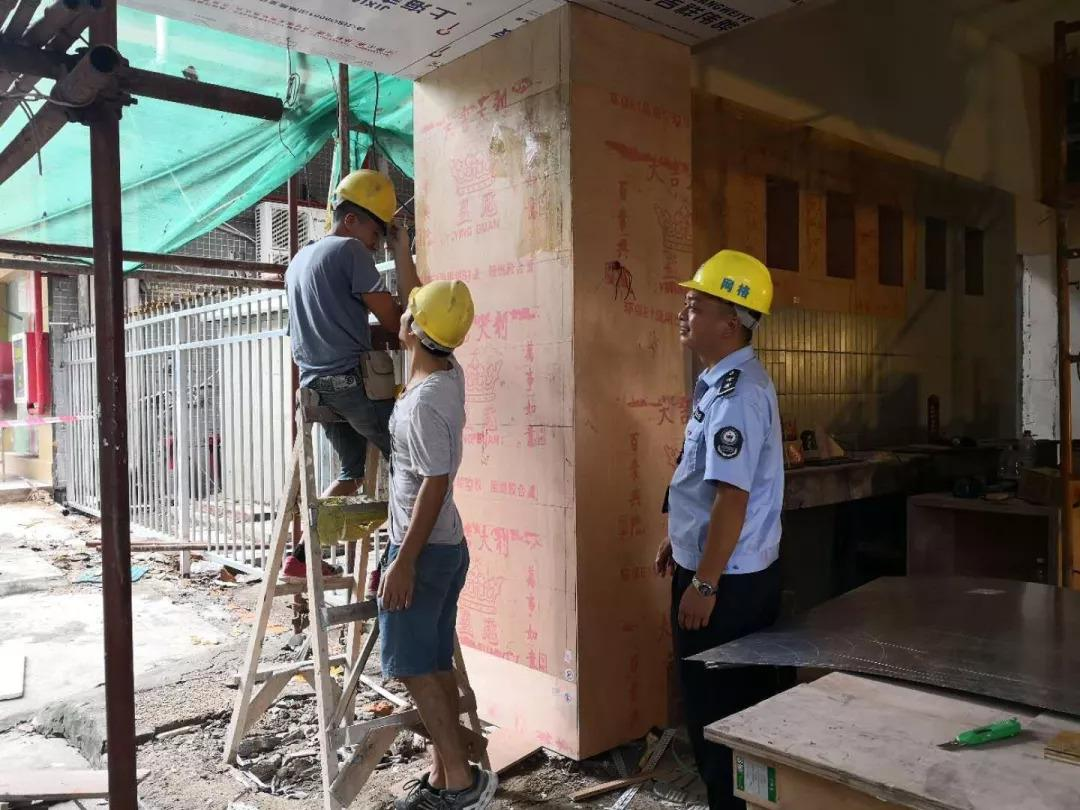helmet: (672, 241, 778, 359), (322, 167, 406, 262), (398, 272, 477, 357)
